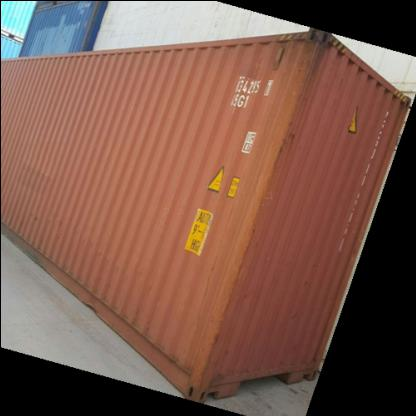Damage: (253, 38, 323, 248), (197, 232, 250, 388)
